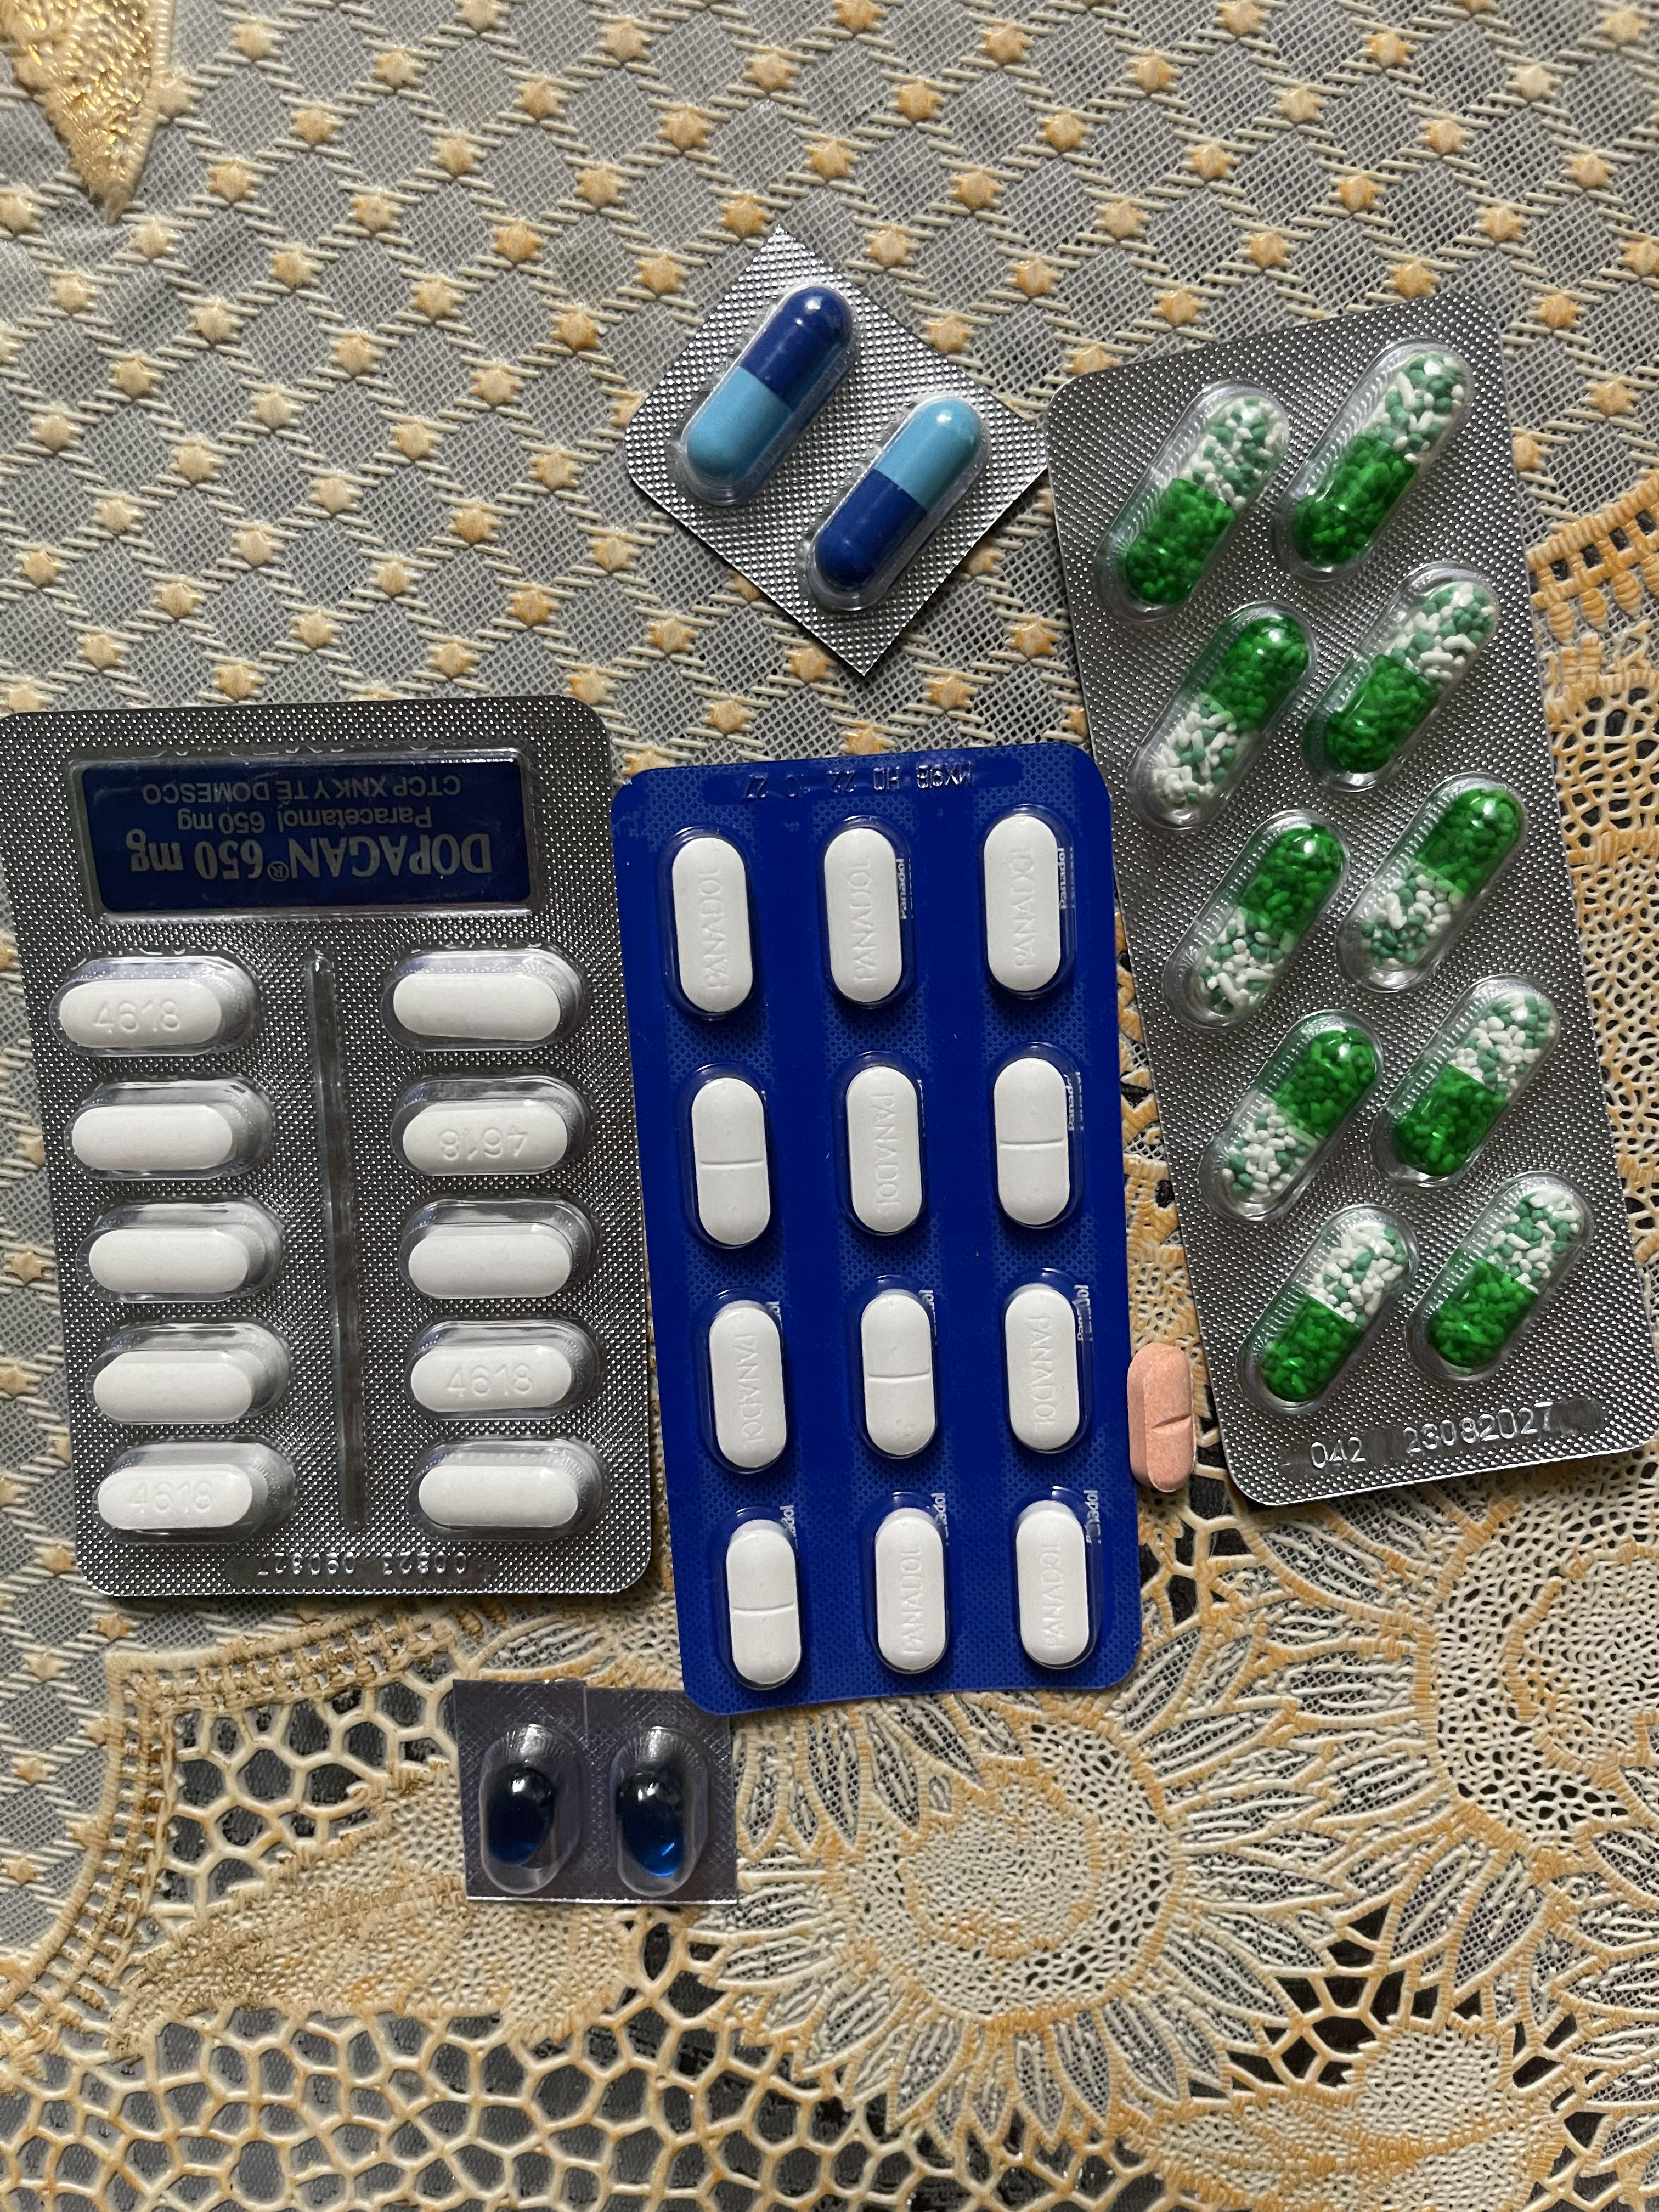Lincomyxin_500mg: (617, 1759, 688, 1879), (484, 1761, 561, 1872)
Loratadine_10mg: (1131, 1345, 1194, 1489)
Paracetamol_350mg: (981, 812, 1065, 996), (823, 826, 906, 1007), (669, 834, 753, 1015), (690, 1075, 772, 1249), (993, 1055, 1075, 1228), (843, 1064, 925, 1237), (1004, 1284, 1084, 1456), (857, 1287, 936, 1458), (1012, 1500, 1091, 1669), (708, 1301, 786, 1470), (873, 1507, 948, 1676), (725, 1521, 802, 1679)
Paracetamol_500mg: (378, 948, 582, 1050), (56, 954, 261, 1054), (96, 1442, 298, 1541), (394, 1080, 587, 1181), (82, 1202, 286, 1298), (401, 1200, 594, 1299), (87, 1329, 286, 1425), (415, 1439, 603, 1534), (408, 1320, 594, 1414), (68, 1103, 249, 1177)
Paracetamol_650mg: (1290, 354, 1469, 573), (1314, 582, 1502, 773), (1122, 395, 1286, 611), (1389, 991, 1560, 1176), (1145, 617, 1309, 805), (1422, 1188, 1584, 1374), (1356, 791, 1527, 967), (1220, 1029, 1380, 1209), (1256, 1216, 1412, 1400), (1192, 831, 1345, 1010)
pill: (802, 390, 993, 610), (671, 284, 852, 507)
